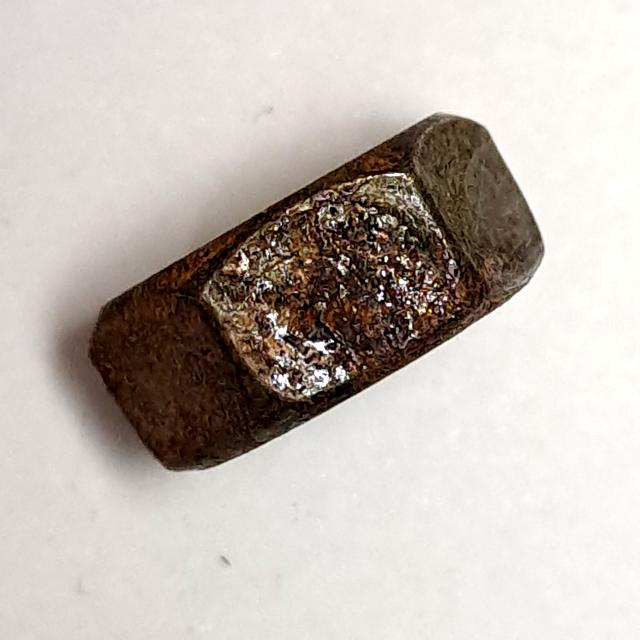Side_Rust: (79, 89, 555, 506)
